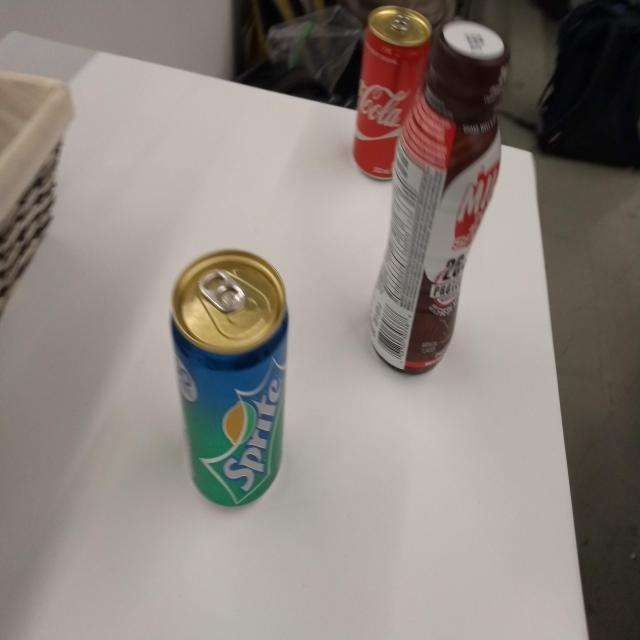chocolate_drink: (365, 16, 515, 378)
coke: (350, 1, 438, 186)
sprite: (164, 243, 294, 512)
